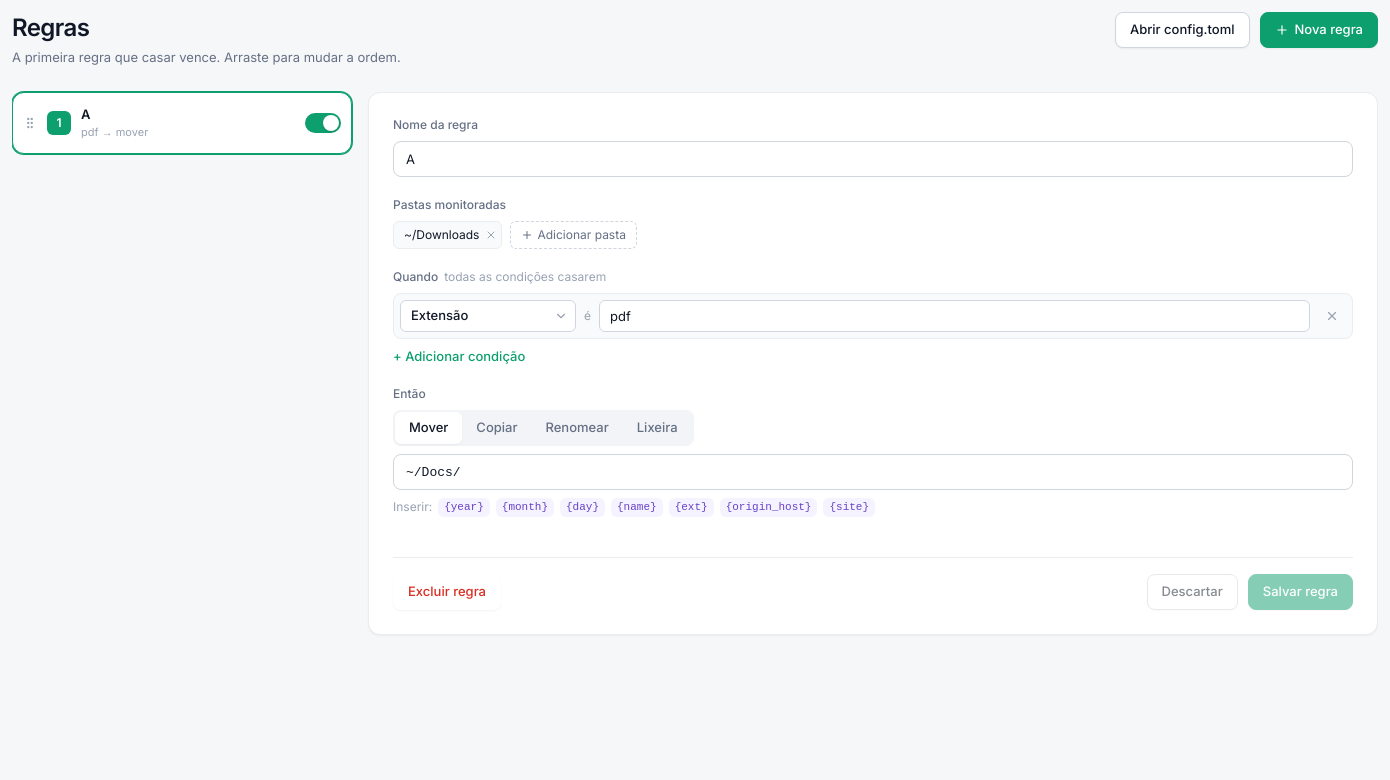
Rules › shows validation errors on the form
The width and height of the screenshot is (1390, 780).
Replace the text in the field named "Valor de Extensão" with "xml": x=954, y=316 top-left (599, 300), bottom-right (1310, 332)
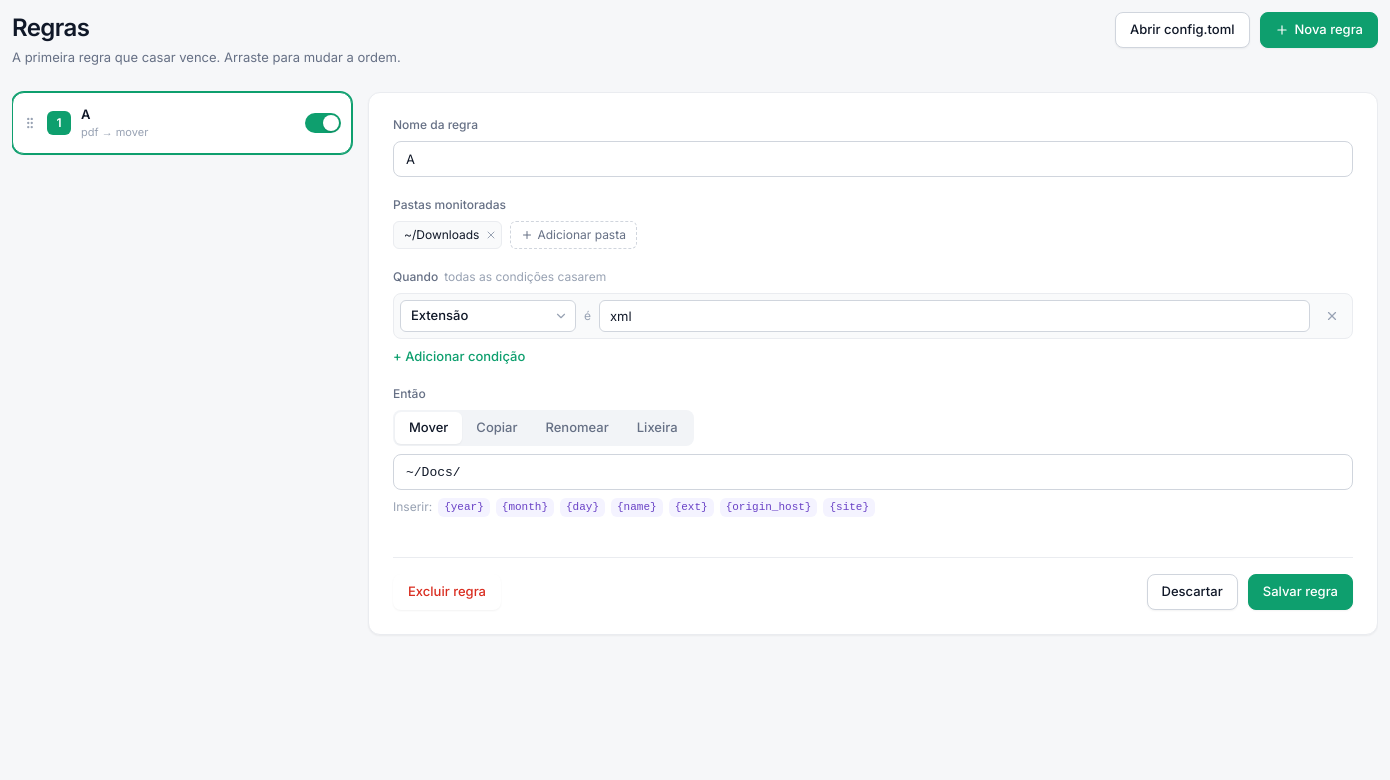
Click the button "Salvar regra": x=1300, y=592 top-left (1248, 574), bottom-right (1353, 610)
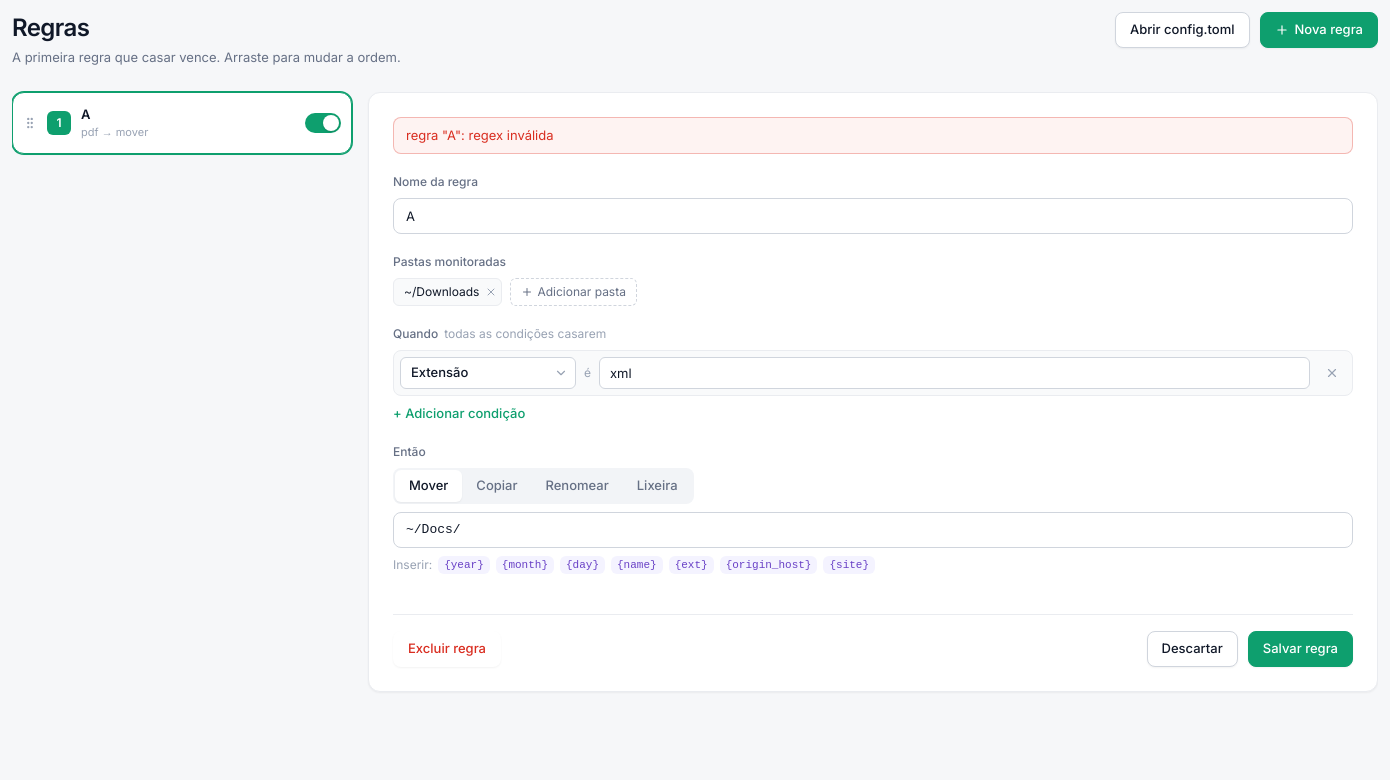
Expected: the message shows "regex inválida", top-left (406, 126), bottom-right (554, 142)
